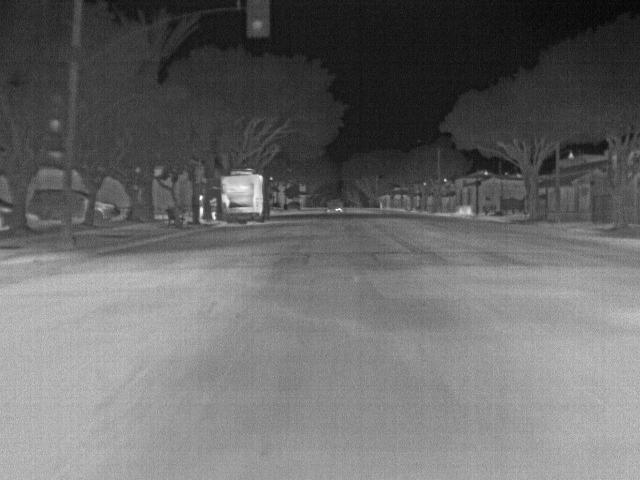car: (27, 188, 64, 222), (72, 188, 91, 220), (1, 198, 16, 229), (326, 196, 344, 212)
person: (198, 193, 207, 222), (209, 196, 219, 221)
